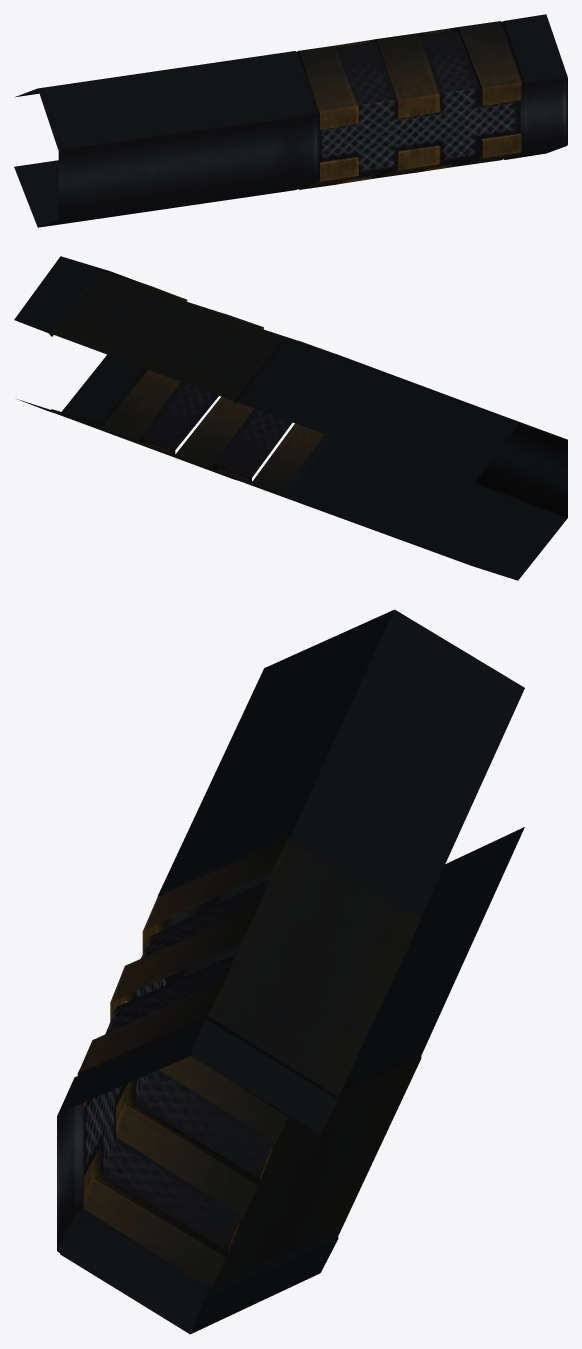
Rendered from v_rock_6.obj.
The picture shows the model from 3 angles, top to bottom: view 1: azimuth 30°, elevation 25°; view 2: azimuth 150°, elevation 25°; view 3: azimuth 270°, elevation 25°; orthographic projection. The views are drawn at different scales.
Size of the model in its own units: 18.97 by 5.28 by 8.05.
Materials: 1 (1 with a texture image).
